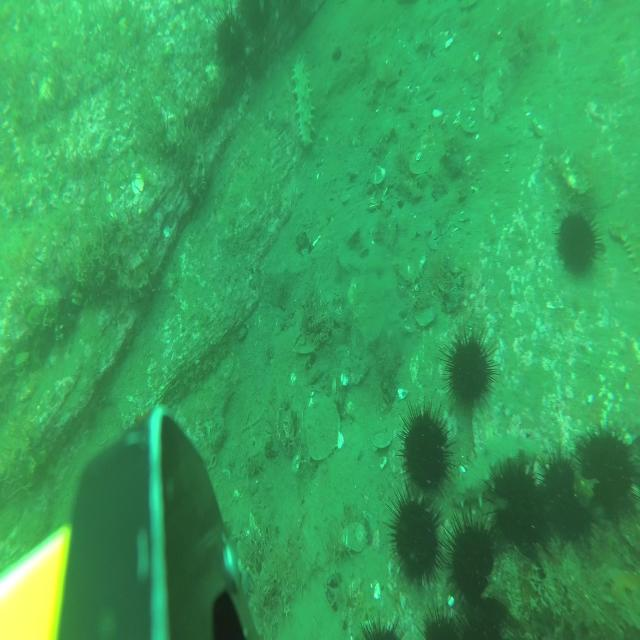echinus: (383, 478, 447, 596), (570, 423, 640, 529), (536, 445, 600, 556), (484, 457, 546, 566), (397, 398, 458, 503), (441, 505, 498, 614), (439, 324, 500, 417), (552, 208, 604, 284), (211, 2, 248, 74), (412, 595, 463, 640), (453, 598, 505, 640), (354, 607, 408, 640), (241, 0, 273, 35)
holothurian: (291, 53, 316, 149), (609, 216, 640, 287)
scallop: (307, 393, 341, 462), (341, 520, 367, 554), (376, 56, 400, 87), (371, 428, 392, 451)
